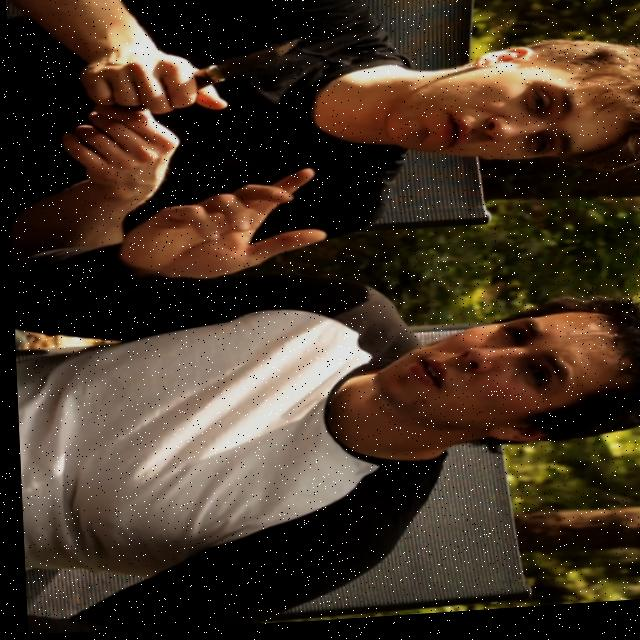knife: (193, 38, 303, 93)
